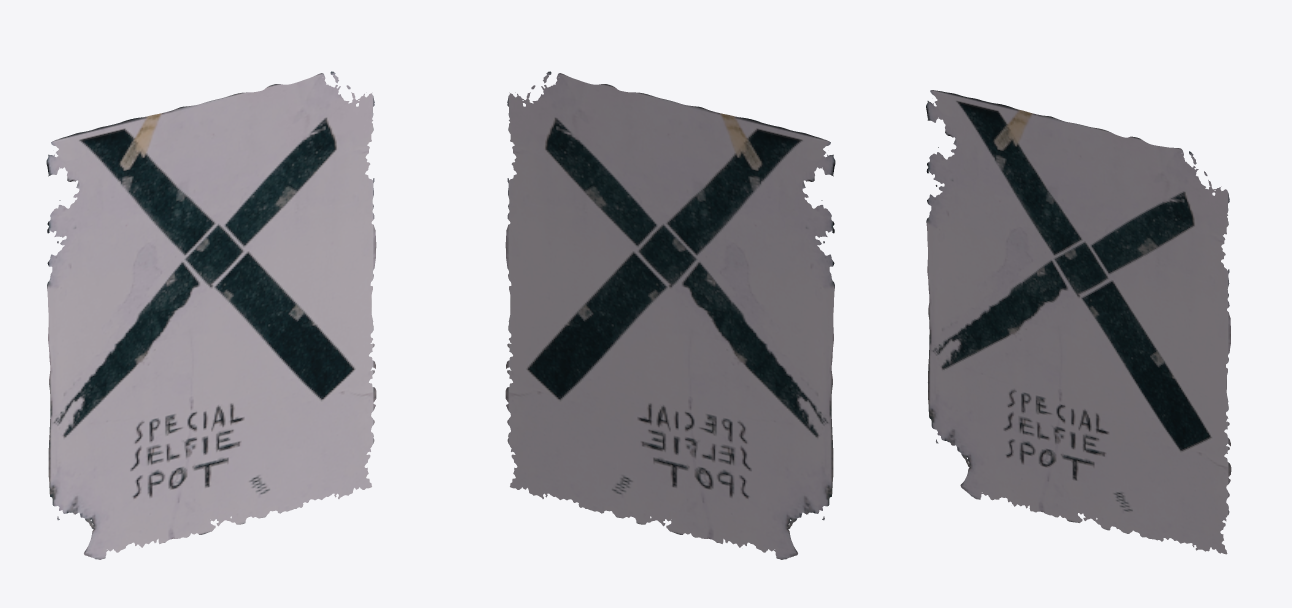
The model's file is Sticker_20.fbx.
3 views of the same model, side by side, from view 1: azimuth 30°, elevation 25°; view 2: azimuth 150°, elevation 25°; view 3: azimuth 330°, elevation 25° (orthographic). The views are drawn at different scales.
Parts seen in each view (by area): view 1: Sticker_20; view 2: Sticker_20; view 3: Sticker_20.
Boxes of the visible parts, <box> form: Sticker_20: <box>46,71,376,559</box>; Sticker_20: <box>505,71,835,559</box>; Sticker_20: <box>926,90,1231,554</box>.
Size of the model in its own units: 0.5071 by 0.6275 by 2.74e-08.
